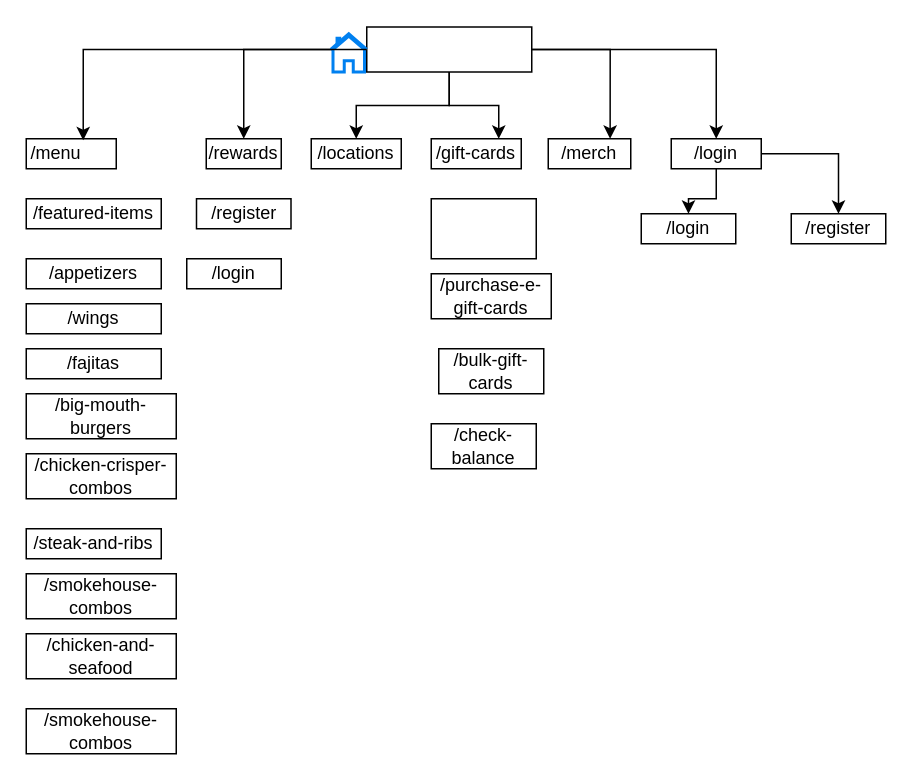
Image size: 912x780. Some labels were removed from this diagram. The shapes that lost their labels are listed below. From the top down, each one's box as (x1, y1, x2, y2) in pixels, then its label:
(365, 26, 532, 72): https://chilis.com/
(430, 197, 536, 259): /purchase physical-cards
